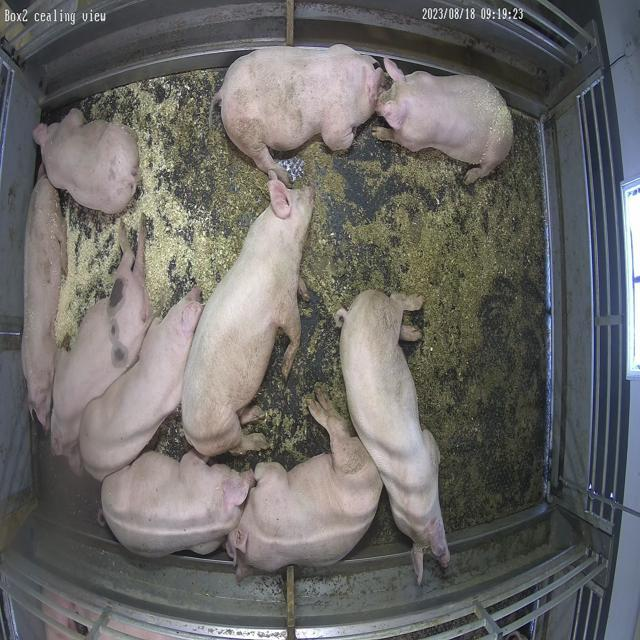Dirt: (234, 113, 547, 530), (175, 71, 266, 262)
Pig: (182, 179, 314, 458), (337, 290, 451, 582), (226, 390, 383, 580), (78, 288, 203, 480), (51, 231, 150, 472), (215, 44, 385, 184), (374, 58, 514, 184), (101, 452, 255, 558), (21, 169, 66, 430), (32, 108, 138, 214)
